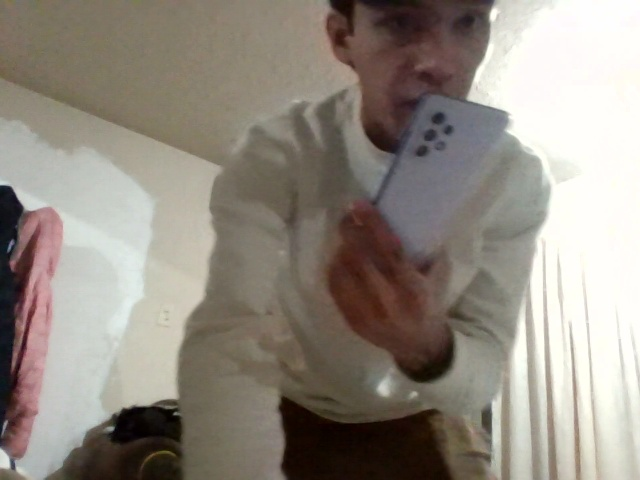celular: (260, 92, 417, 410)
